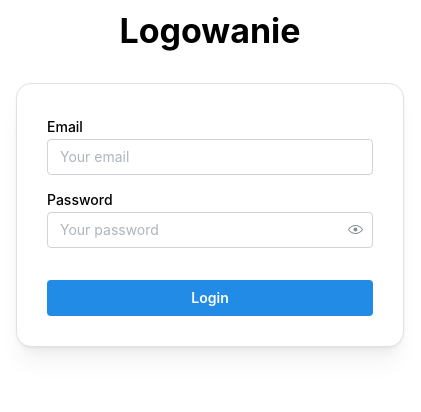
Test: Login form › displays error messages for invalid inputs
Symulacja wysłania pustego formularza
Click the button "Login": (210, 298) [47, 280, 373, 316]
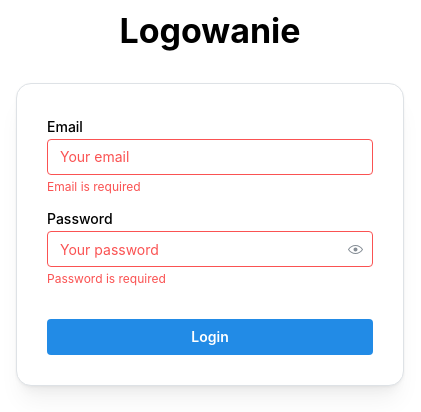
Expected: the text "Email is required" is shown, [47, 179, 141, 194]
Expected: the text "Password is required" is shown, [47, 271, 166, 286]
Symulacja wpisania niepoprawnego formatu e-maila
In the field with placeholder "Your email": (210, 157) [47, 139, 373, 175], type "invalidemail"
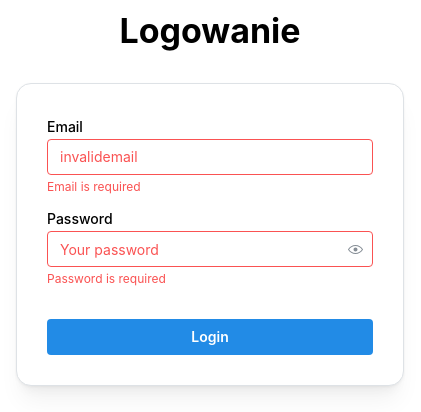
Click the button "Login": (210, 337) [47, 319, 373, 355]
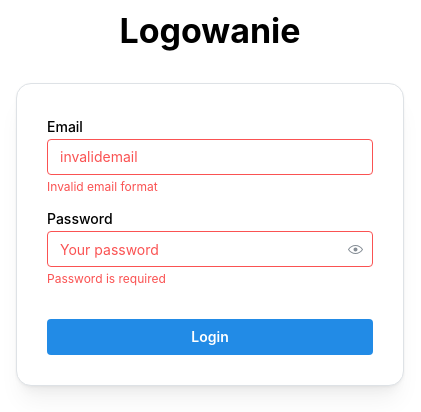
Expected: the text "Invalid email format" is shown, [47, 179, 158, 194]
